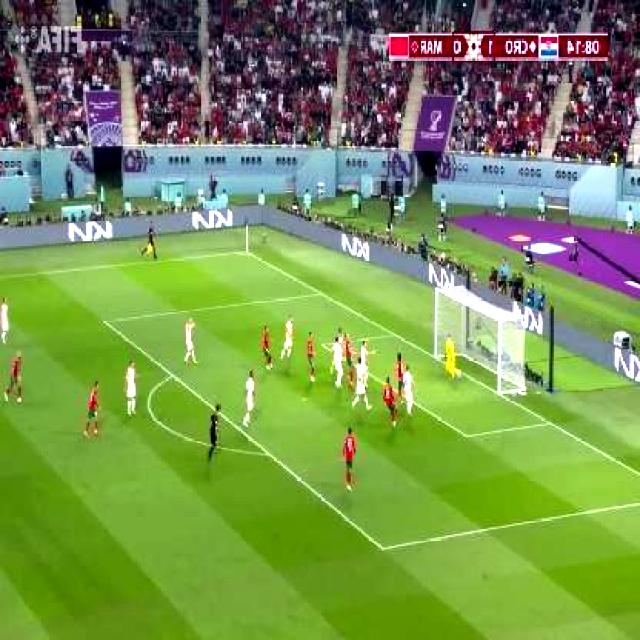bigarea_bottom_inner: (374, 534, 394, 560)
bigarea_top_inner: (98, 311, 114, 331)
bigarea_top_outter: (314, 283, 329, 302)
bottom_arc_area_intersection: (260, 442, 278, 463)
corner: (238, 245, 256, 257)
smallarea_bottom_inner: (457, 422, 477, 448)
smallarea_bottom_outter: (542, 411, 560, 434)
smallarea_top_inner: (317, 334, 332, 354)
smallarea_top_outter: (388, 323, 403, 343)
top_arc_area_intersection: (166, 365, 182, 383)
